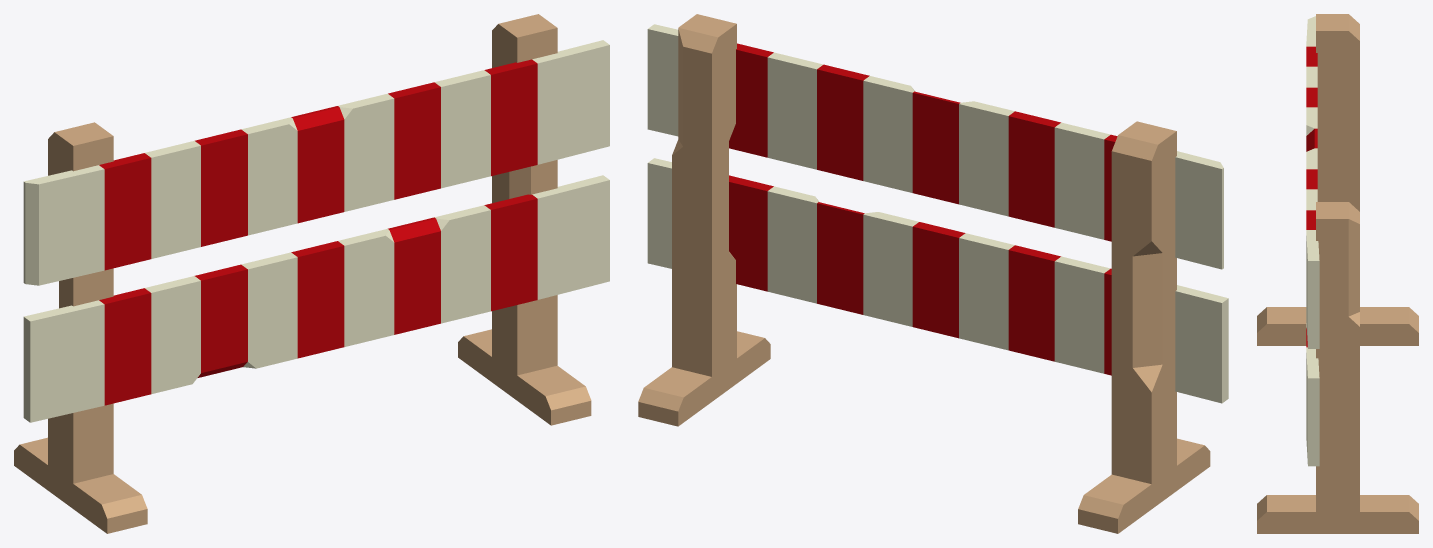
File: barriere.fbx
3 renders of one model, left to right at view 1: azimuth 30°, elevation 25°; view 2: azimuth 150°, elevation 25°; view 3: azimuth 270°, elevation 25°, orthographic. The views are drawn at different scales.
Parts seen in each view (by area): view 1: Cube.003; view 2: Cube.003; view 3: Cube.003.
Boxes of the visible parts, left/top/right/bottom form: Cube.003: left=14, top=14, right=609, bottom=533; Cube.003: left=638, top=14, right=1228, bottom=533; Cube.003: left=1257, top=14, right=1418, bottom=533.
Size of the model in its own units: 718 by 430 by 200.
1 material, 1 textured.
